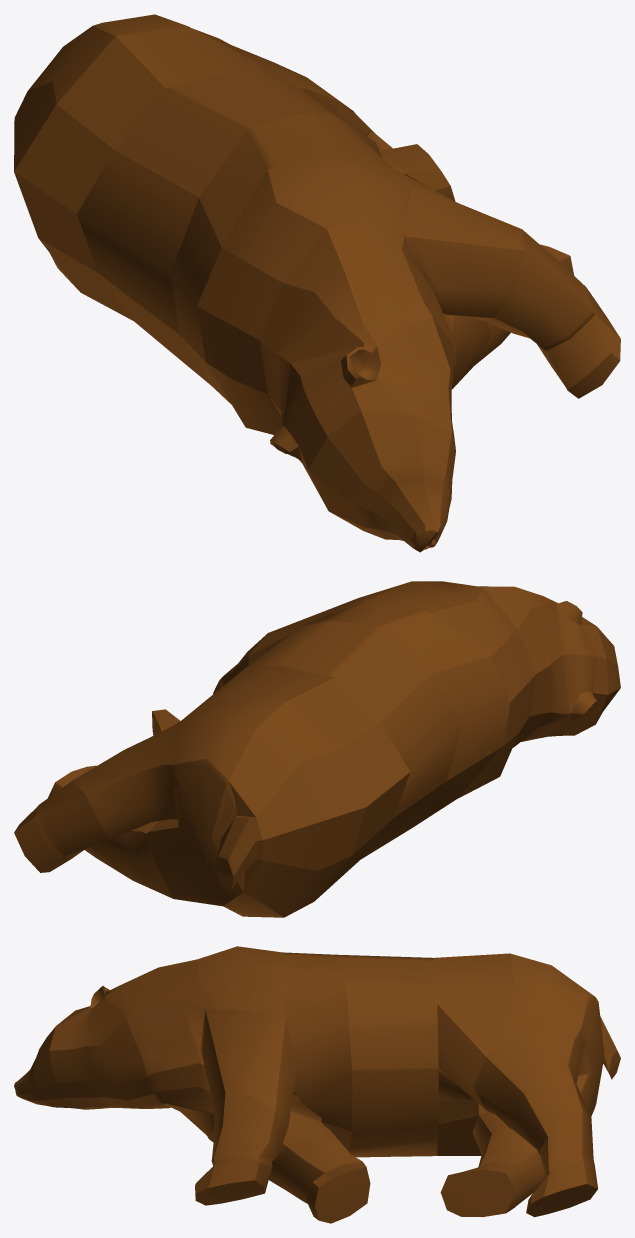
The model's file is Bjorno.fbx.
3 views of the same model, one above another, from view 1: azimuth 30°, elevation 25°; view 2: azimuth 150°, elevation 25°; view 3: azimuth 270°, elevation 25° (orthographic). The views are drawn at different scales.
Visible parts, largest first — view 1: bjorno; view 2: bjorno; view 3: bjorno.
Boxes of the visible parts, x1,y1,x2,y2 form: bjorno: (14, 14, 620, 552); bjorno: (14, 581, 620, 917); bjorno: (14, 946, 620, 1223).
Size of the model in its own units: 12.78 by 7.69 by 22.85.
